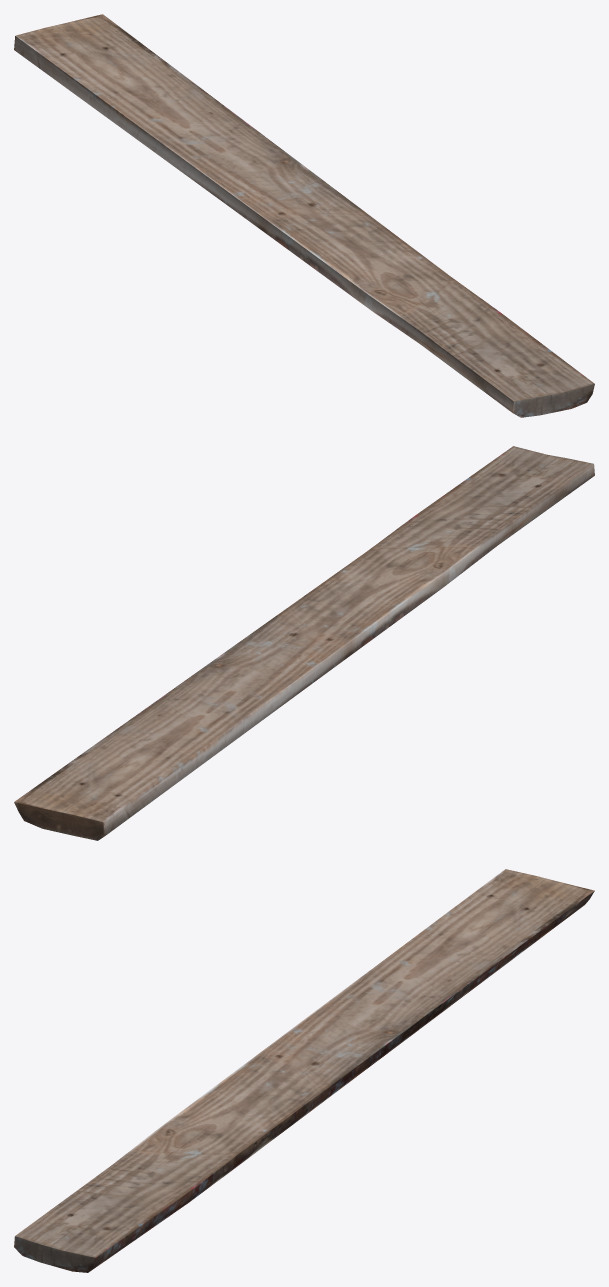
Rendered from sm_WoodPallet_01_09.fbx.
3 renders of one model, top to bottom at view 1: azimuth 30°, elevation 25°; view 2: azimuth 150°, elevation 25°; view 3: azimuth 330°, elevation 25°, orthographic.
Parts seen in each view (by area): view 1: sm_WoodPallet_01_09_LOD0; view 2: sm_WoodPallet_01_09_LOD0; view 3: sm_WoodPallet_01_09_LOD0.
Part boxes in pixels (<box>): sm_WoodPallet_01_09_LOD0: <box>14,14,594,417</box>; sm_WoodPallet_01_09_LOD0: <box>14,446,594,840</box>; sm_WoodPallet_01_09_LOD0: <box>14,869,594,1272</box>.
Size of the model in its own units: 119 by 12.45 by 3.45.
